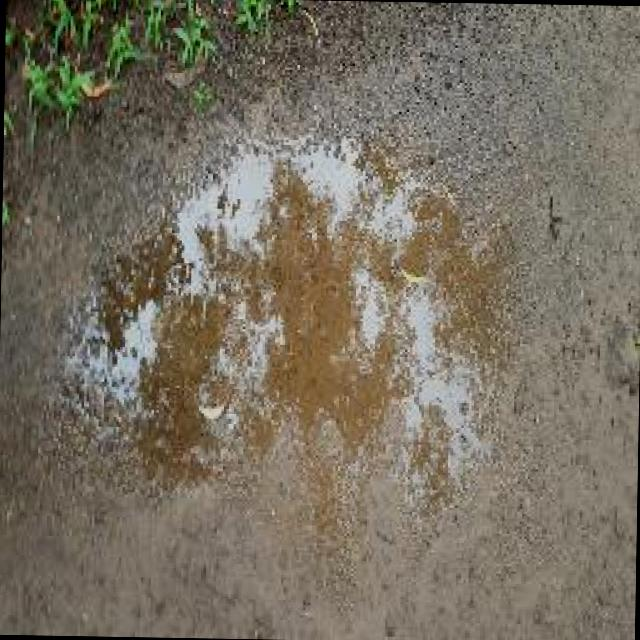waterlogging: (56, 142, 516, 494)
